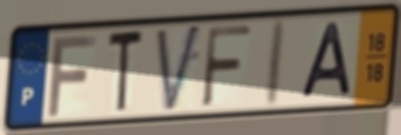A: (299, 19, 355, 102)
F: (198, 23, 255, 111), (45, 32, 99, 119)
I: (261, 16, 289, 112)
T: (106, 26, 146, 118)
V: (153, 20, 205, 117)
